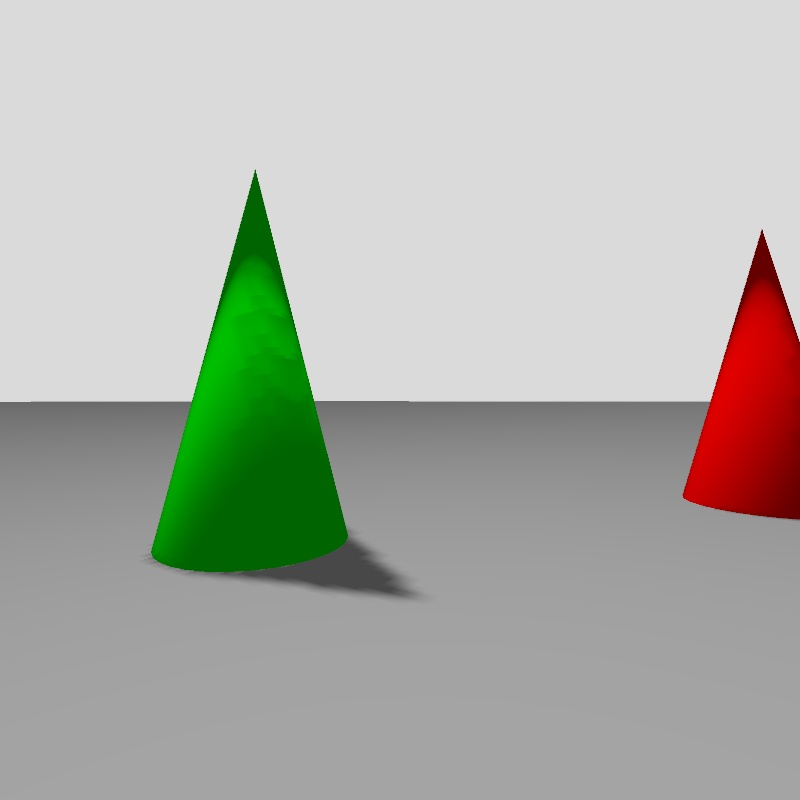Green_cone: (152, 173, 347, 571)
Red_cone: (684, 231, 799, 519)
